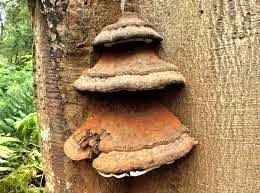Ganoderma - Fruit Body: (64, 98, 195, 177), (72, 51, 187, 97), (94, 11, 164, 48)
